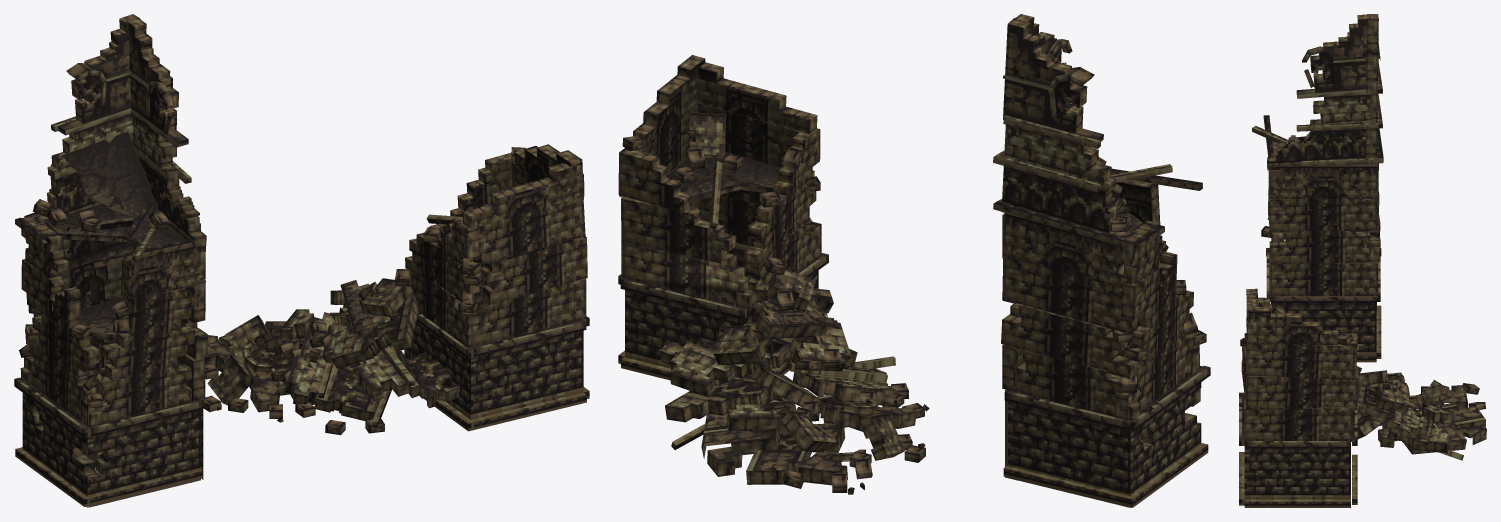
The model's file is EnvObjMD_Battlefield_B_Tower_A.FBX.
3 renders of one model, left to right at view 1: azimuth 30°, elevation 25°; view 2: azimuth 150°, elevation 25°; view 3: azimuth 270°, elevation 25°, orthographic. The views are drawn at different scales.
Visible parts, largest first — view 1: EnvObjMD_Battlefield_B_Tower_A, EnvObjMD_Battlefield_B_Tower_B; view 2: EnvObjMD_Battlefield_B_Tower_B, EnvObjMD_Battlefield_B_Tower_A; view 3: EnvObjMD_Battlefield_B_Tower_B, EnvObjMD_Battlefield_B_Tower_A.
Boxes of the visible parts, x1,y1,x2,y2 form: EnvObjMD_Battlefield_B_Tower_A: [14, 14, 207, 507]; EnvObjMD_Battlefield_B_Tower_B: [202, 144, 589, 435]; EnvObjMD_Battlefield_B_Tower_B: [618, 55, 929, 494]; EnvObjMD_Battlefield_B_Tower_A: [993, 14, 1210, 507]; EnvObjMD_Battlefield_B_Tower_B: [1239, 288, 1486, 507]; EnvObjMD_Battlefield_B_Tower_A: [1252, 14, 1383, 362].
Size of the model in its own units: 1031 by 839 by 548.
Materials: 1 (1 with a texture image).
